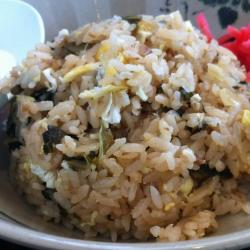rice: (12, 22, 235, 211)
